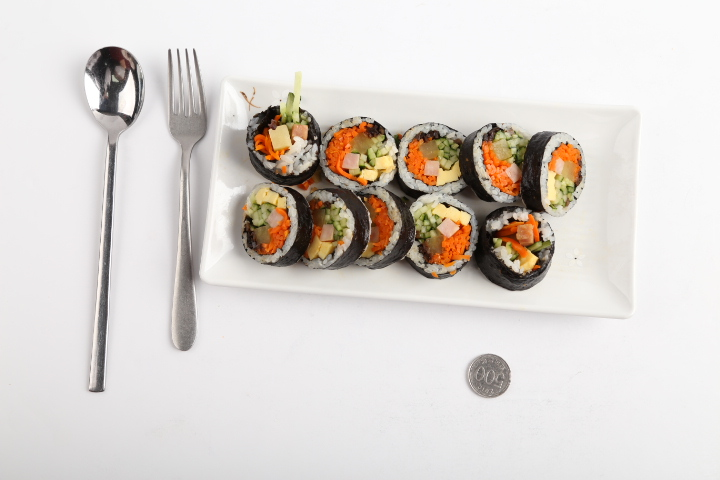dish: (200, 78, 640, 319)
ref_coin: (467, 353, 511, 398)
ref_fork: (167, 47, 208, 147)
ref_spoon: (84, 46, 145, 140)
김밥: (241, 105, 586, 291)
